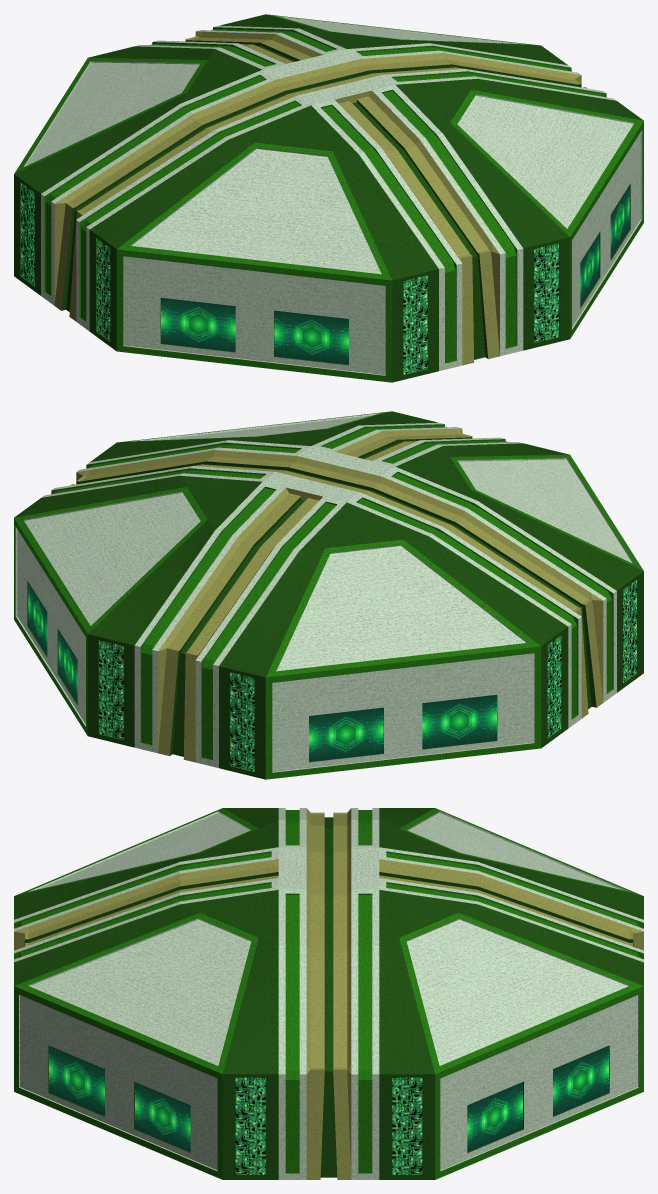
Rendered from sci_fi_room.glb.
The picture shows the model from 3 angles, top to bottom: view 1: azimuth 30°, elevation 25°; view 2: azimuth 150°, elevation 25°; view 3: azimuth 270°, elevation 25°; orthographic projection. The views are drawn at different scales.
Parts seen in each view (by area): view 1: Material2 (×6); view 2: Material2 (×6); view 3: Material2 (×6).
Part boxes in pixels (x1,y1,x2,y2): Material2 (×6): [14, 14, 643, 382]; Material2 (×6): [14, 411, 643, 779]; Material2 (×6): [14, 808, 643, 1179].
Size of the model in its own units: 1081 by 337 by 1081.
Materials: 9 (7 with a texture image).
